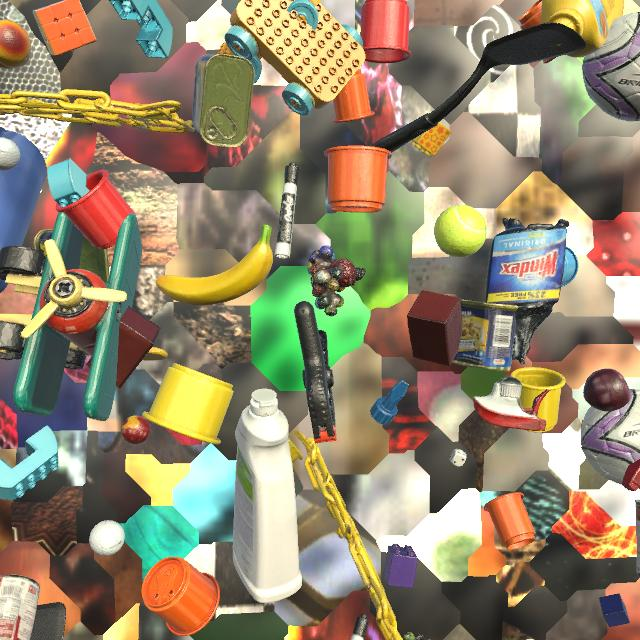ycb_005_tomato_soup_can: (0, 575, 40, 640), (635, 499, 640, 576)
ycb_006_mustard_bottle: (541, 0, 625, 58)
ycb_010_potted_meat_can: (192, 54, 255, 148), (452, 299, 518, 372), (34, 229, 110, 283)
ycb_011_banana: (156, 224, 273, 306)
ycb_015_peach: (0, 19, 31, 69)
ycb_018_plum: (583, 368, 631, 411)
